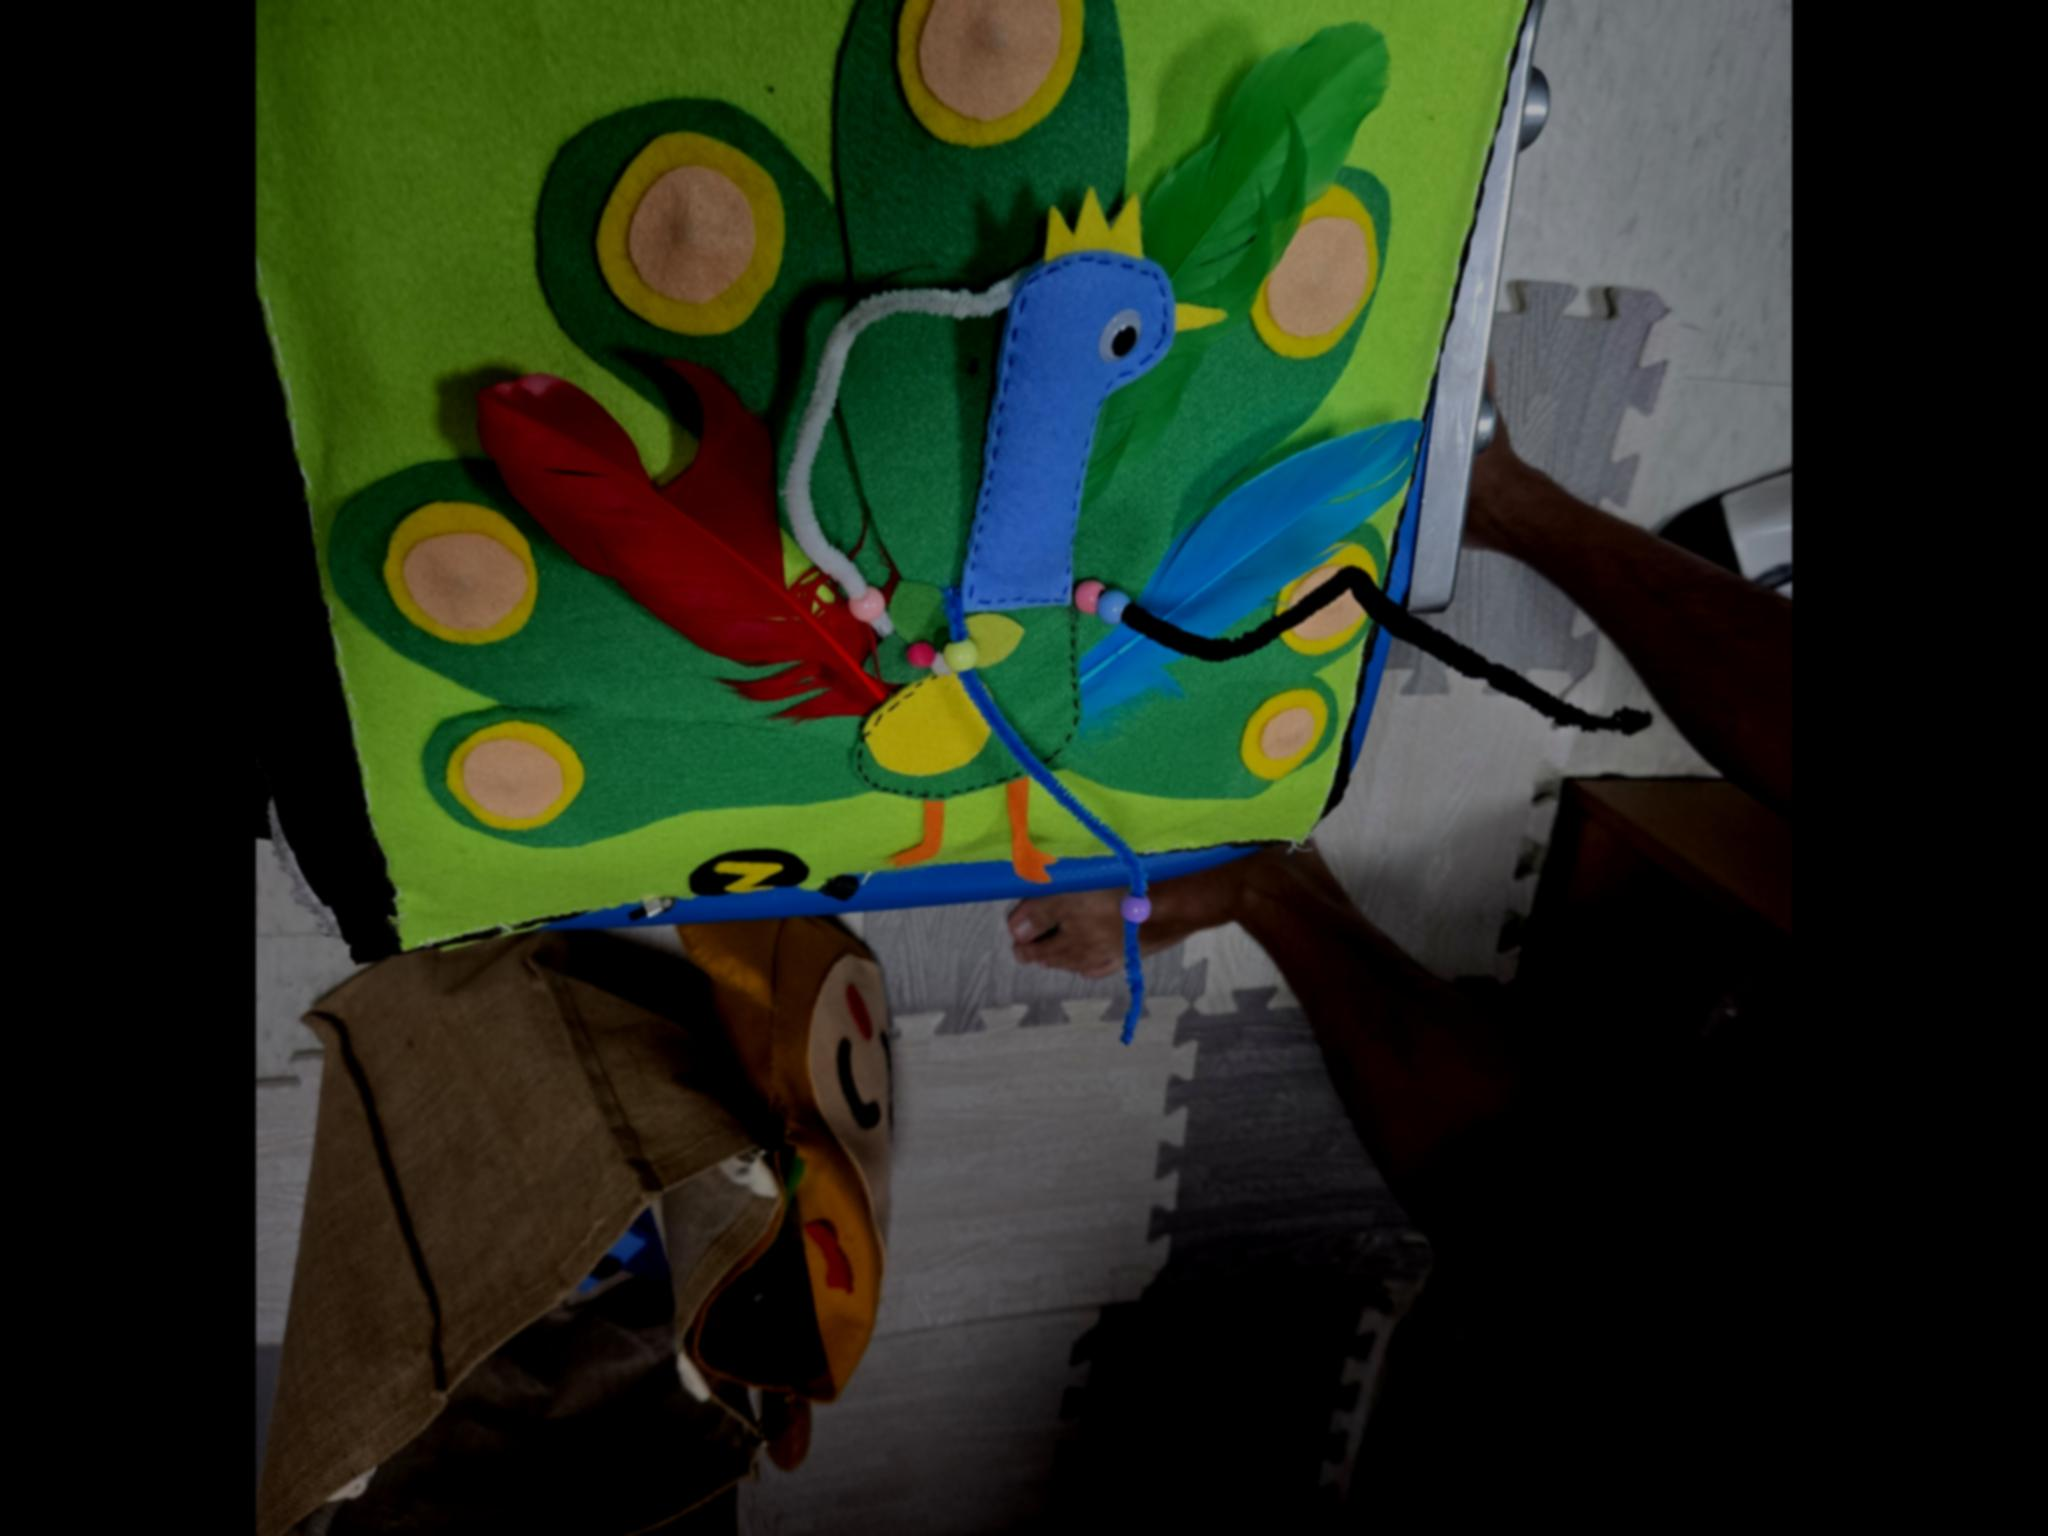bead: (843, 579, 900, 634), (1059, 568, 1103, 629), (1106, 886, 1161, 929), (1097, 592, 1142, 629)
